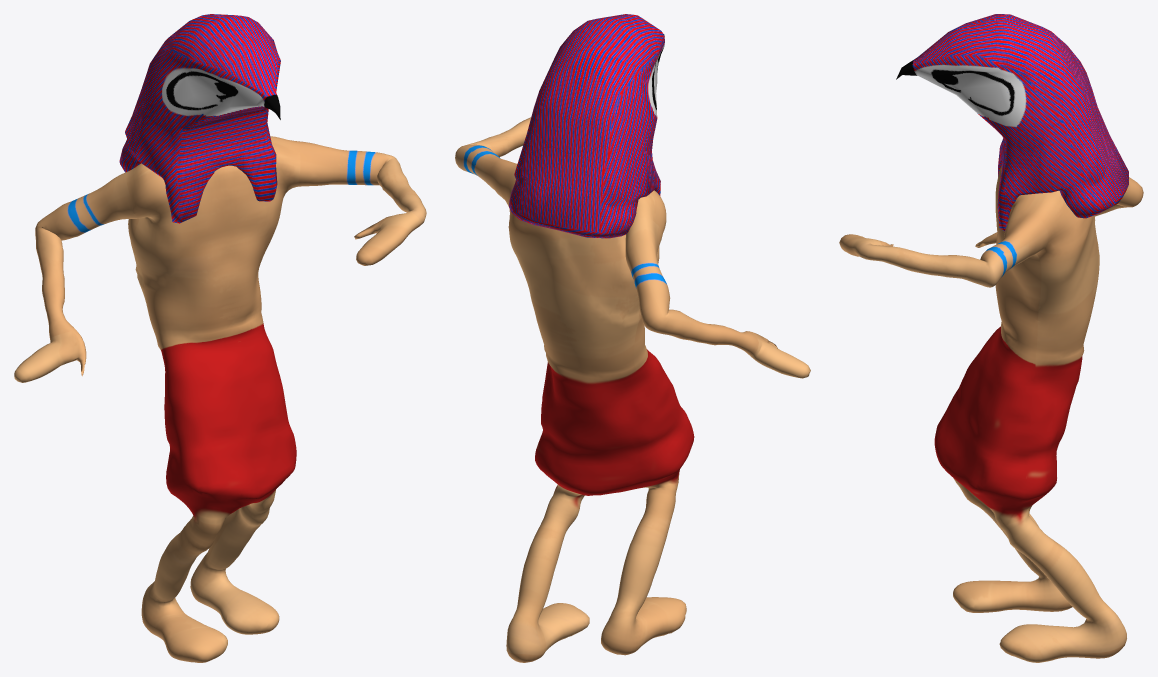
Rendered from Statue1.fbx.
3 views of the same model, side by side, from view 1: azimuth 30°, elevation 25°; view 2: azimuth 150°, elevation 25°; view 3: azimuth 270°, elevation 25° (orthographic). The views are drawn at different scales.
Parts seen in each view (by area): view 1: GodBody_low.003, RaHead_low.003; view 2: GodBody_low.003, RaHead_low.003; view 3: GodBody_low.003, RaHead_low.003.
Part boxes in pixels (<box>): GodBody_low.003: <box>14,136,426,662</box>; RaHead_low.003: <box>119,14,280,223</box>; GodBody_low.003: <box>455,117,810,662</box>; RaHead_low.003: <box>509,14,664,238</box>; GodBody_low.003: <box>839,165,1143,662</box>; RaHead_low.003: <box>896,14,1128,231</box>.
Size of the model in its own units: 476 by 768 by 343.
